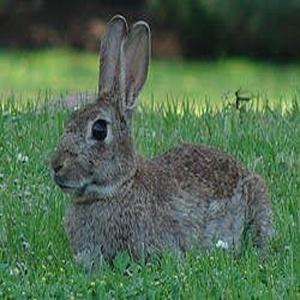rabbit: (50, 14, 275, 263)
